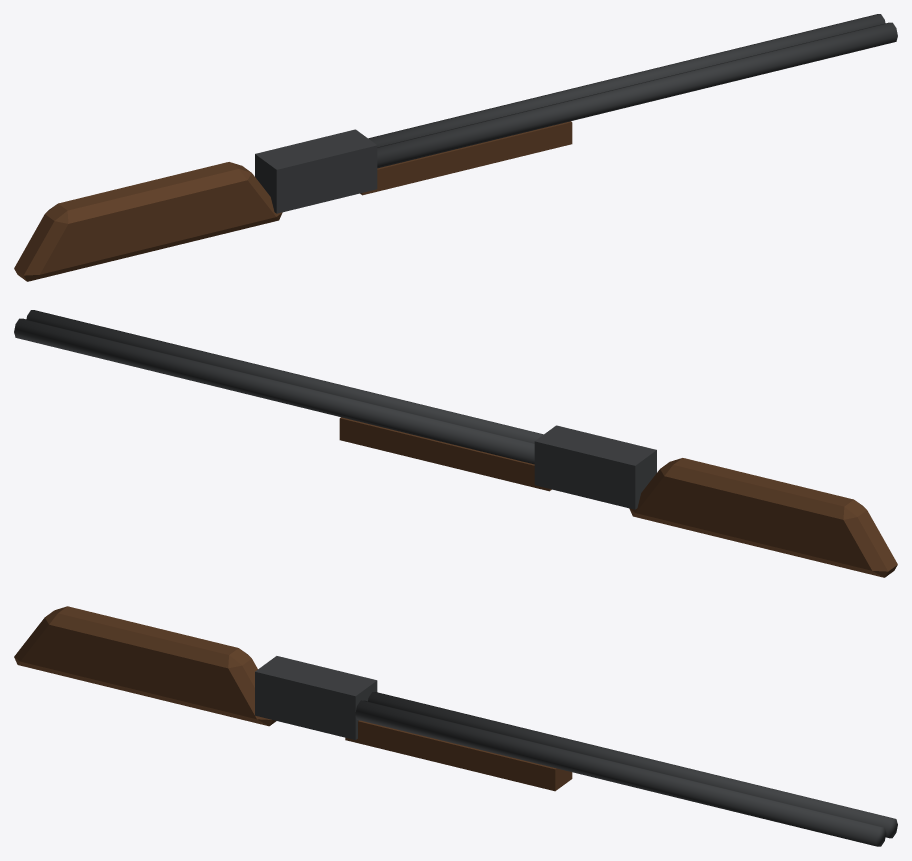
Rendered from shotgun.glb.
3 renders of one model, top to bottom at view 1: azimuth 30°, elevation 25°; view 2: azimuth 150°, elevation 25°; view 3: azimuth 330°, elevation 25°, orthographic.
Visible parts, largest first — view 1: Item; view 2: Item; view 3: Item.
Boxes of the visible parts, box(x1,y1,x2,y2) form: Item: box(14, 14, 897, 281); Item: box(14, 310, 897, 577); Item: box(14, 606, 897, 846).
Size of the model in its own units: 1.03 by 0.07 by 0.046.
